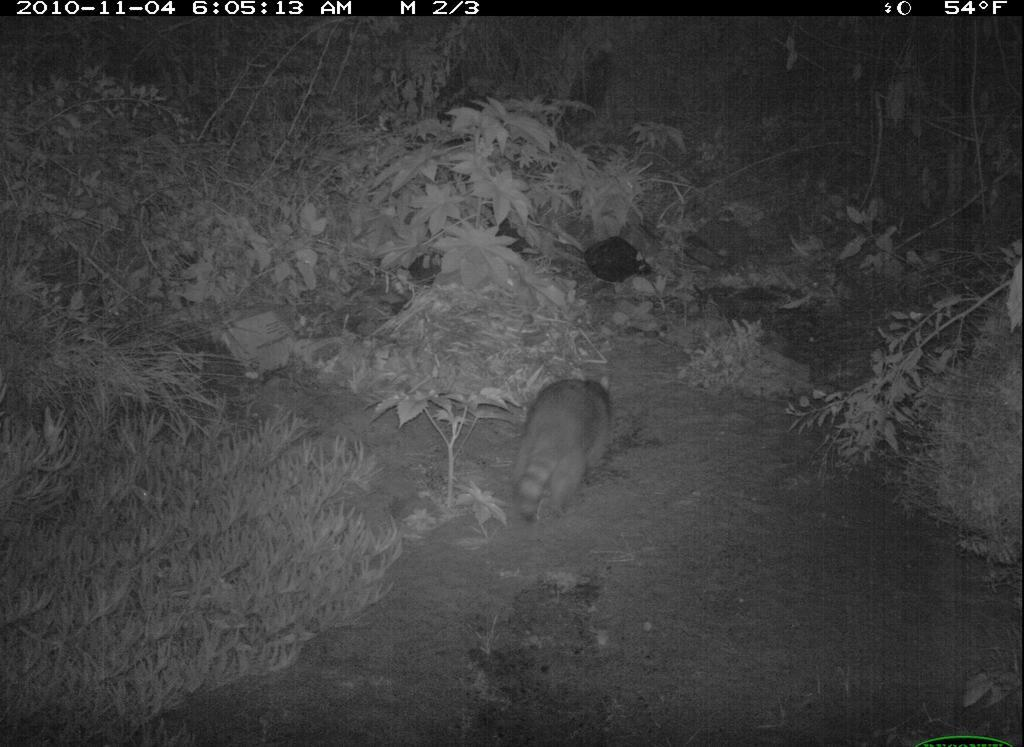raccoon: (504, 370, 628, 534)
